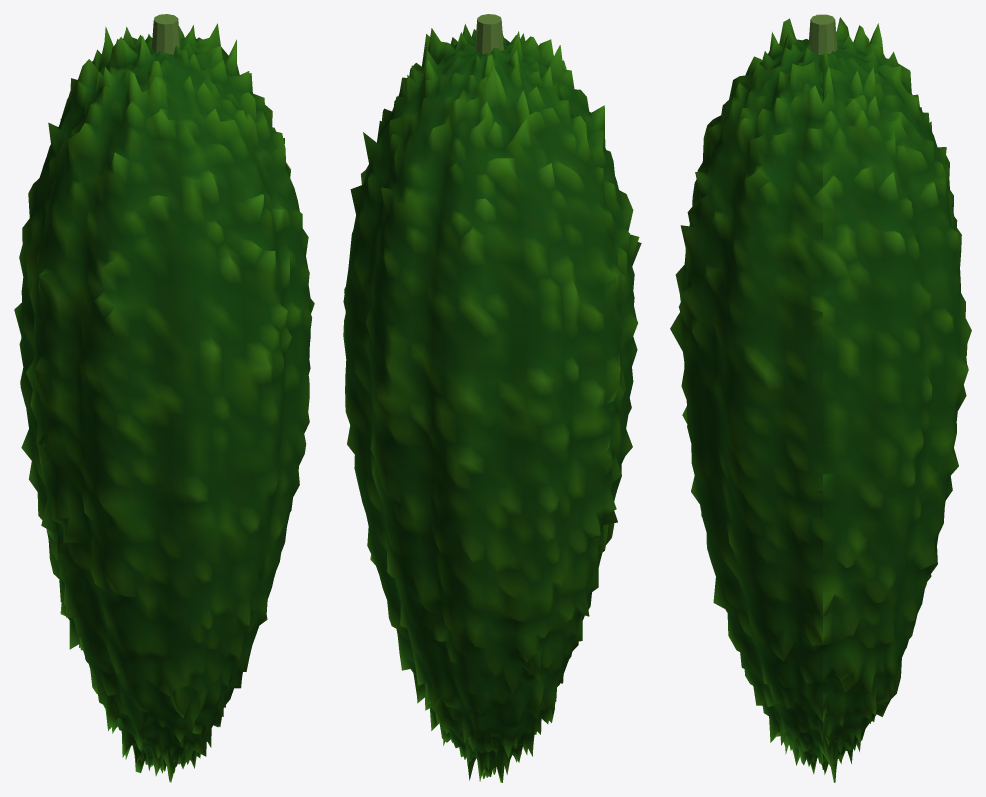
Rendered from margoze.glb.
3 views of the same model, side by side, from view 1: azimuth 30°, elevation 25°; view 2: azimuth 150°, elevation 25°; view 3: azimuth 270°, elevation 25° (orthographic).
Visible parts, largest first — view 1: entier_peau, moitie_B_peau, moitie_A_peau, entier_extra0; view 2: entier_peau, moitie_A_peau, moitie_B_peau, entier_extra0; view 3: entier_peau, moitie_A_peau, moitie_B_peau, entier_extra0.
Part boxes in pixels (<box>): entier_peau: <box>14,23,314,782</box>; moitie_B_peau: <box>34,37,312,779</box>; moitie_A_peau: <box>16,24,269,771</box>; entier_extra0: <box>152,14,180,54</box>; entier_peau: <box>343,24,641,782</box>; moitie_A_peau: <box>344,30,620,779</box>; moitie_B_peau: <box>422,28,639,761</box>; entier_extra0: <box>475,14,503,54</box>; entier_peau: <box>670,14,971,782</box>; moitie_A_peau: <box>823,24,970,782</box>; moitie_B_peau: <box>672,20,822,766</box>; entier_extra0: <box>808,14,837,54</box>.
Size of the model in its own units: 0.7652 by 2.15 by 0.7767.
